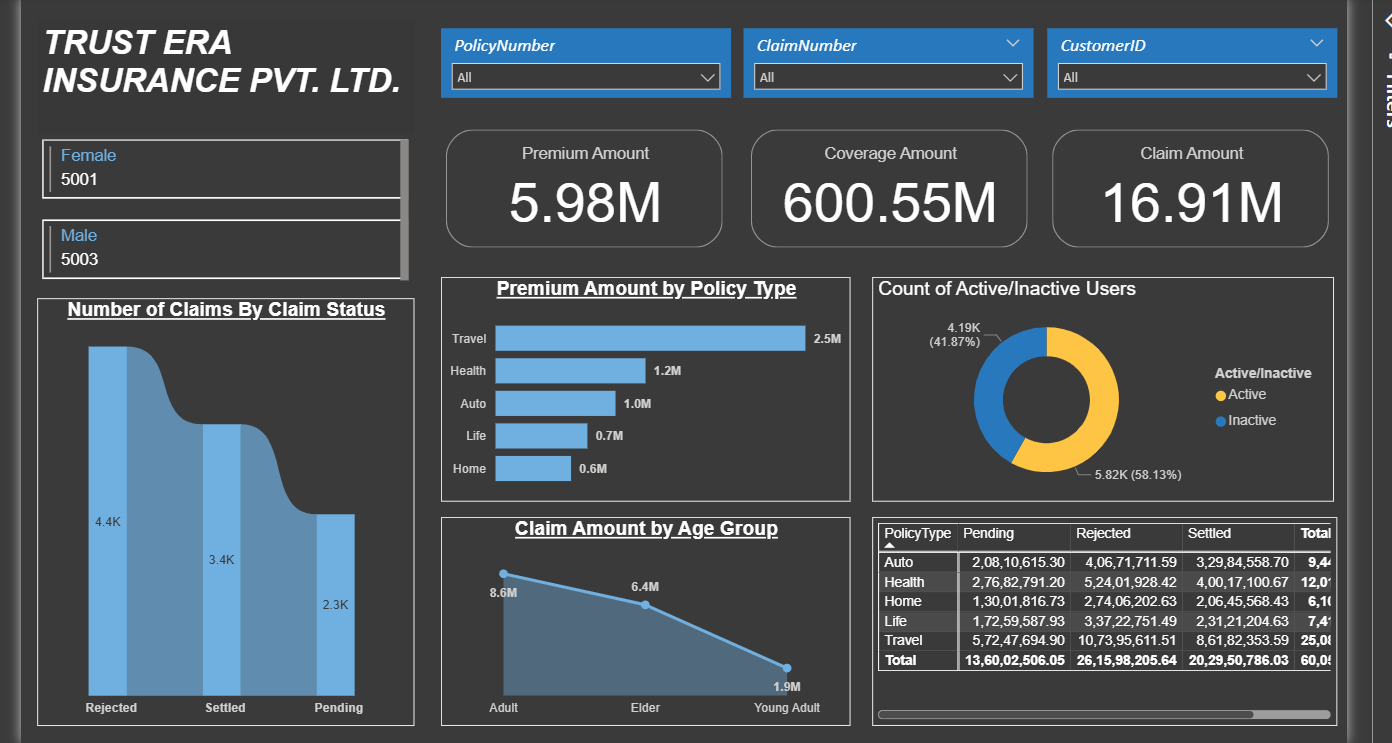

This screenshot's page, from the dashboard's own definition file:
{"tool":"powerbi","page":{"name":"Insurance","canvas":[1280,720],"ordinal":0},"visuals":[{"type":"slicer","fields":{"Values":["InsuranceData.PolicyNumber"]},"box":[404.8,30.2,279.9,67.2],"z":0},{"type":"slicer","fields":{"Values":["InsuranceData.ClaimNumber"]},"box":[697.1,30.2,279.9,67.2],"z":1000},{"type":"slicer","fields":{"Values":["InsuranceData.CustomerID"]},"box":[990.7,30.2,279.9,67.2],"z":2000},{"type":"textbox","box":[15.1,22,363.6,111.1],"z":3000},{"type":"cardVisual","fields":{"Data":["Sum(InsuranceData.CoverageAmount)"]},"box":[699.8,123.5,277.2,124.9],"z":4000},{"type":"cardVisual","fields":{"Data":["Sum(InsuranceData.ClaimAmount)"]},"box":[990.7,123.5,277.2,124.9],"z":5000},{"type":"cardVisual","fields":{"Data":["Sum(InsuranceData.PremiumAmount)"]},"box":[404.8,123.5,277.2,124.9],"z":6000},{"type":"multiRowCard","fields":{"Values":["InsuranceData.Gender","CountNonNull(InsuranceData.Gender)"]},"box":[15.1,133.1,363.6,157.8],"z":7000},{"type":"ribbonChart","title":"Number of Claims By Claim Status","fields":{"Category":["InsuranceData.ClaimStatus"],"Y":["CountNonNull(InsuranceData.ClaimStatus)"]},"box":[15.1,290.9,363.6,413],"z":8000},{"type":"barChart","title":"Premium Amount by Policy Type","fields":{"Category":["InsuranceData.PolicyType"],"Y":["Sum(InsuranceData.PremiumAmount)"]},"box":[404.8,270.3,395.2,216.8],"z":9000},{"type":"lineChart","title":"Claim Amount by Age Group","fields":{"Category":["InsuranceData.Age Group"],"Y":["Sum(InsuranceData.ClaimAmount)"]},"box":[404.8,502.2,395.2,201.7],"z":10000},{"type":"donutChart","title":"Count of Active/Inactive Users","fields":{"Y":["CountNonNull(InsuranceData.Active/Inactive)"],"Category":["InsuranceData.Active/Inactive"]},"box":[822,270.3,446,216.8],"z":11000},{"type":"pivotTable","fields":{"Rows":["InsuranceData.PolicyType"],"Columns":["InsuranceData.ClaimStatus"],"Values":["Sum(InsuranceData.CoverageAmount)"]},"box":[822,502.2,448.7,201.7],"z":12000}]}

Visuals, with their boxes on the page's 1280x720 design canvas (x1, y1, x2, y2). These are canvas units, not pixel positions in the 1392x743 screenshot, which may show the page scaled, cropped or inside an application window:
slicer - InsuranceData.PolicyNumber: bbox(405, 30, 685, 97)
slicer - InsuranceData.ClaimNumber: bbox(697, 30, 977, 97)
slicer - InsuranceData.CustomerID: bbox(991, 30, 1271, 97)
textbox: bbox(15, 22, 379, 133)
cardVisual - Sum(InsuranceData.CoverageAmount): bbox(700, 124, 977, 248)
cardVisual - Sum(InsuranceData.ClaimAmount): bbox(991, 124, 1268, 248)
cardVisual - Sum(InsuranceData.PremiumAmount): bbox(405, 124, 682, 248)
multiRowCard - InsuranceData.Gender x CountNonNull(InsuranceData.Gender): bbox(15, 133, 379, 291)
"Number of Claims By Claim Status" ribbonChart: bbox(15, 291, 379, 704)
"Premium Amount by Policy Type" barChart: bbox(405, 270, 800, 487)
"Claim Amount by Age Group" lineChart: bbox(405, 502, 800, 704)
"Count of Active/Inactive Users" donutChart: bbox(822, 270, 1268, 487)
pivotTable - InsuranceData.PolicyType x InsuranceData.ClaimStatus: bbox(822, 502, 1271, 704)
